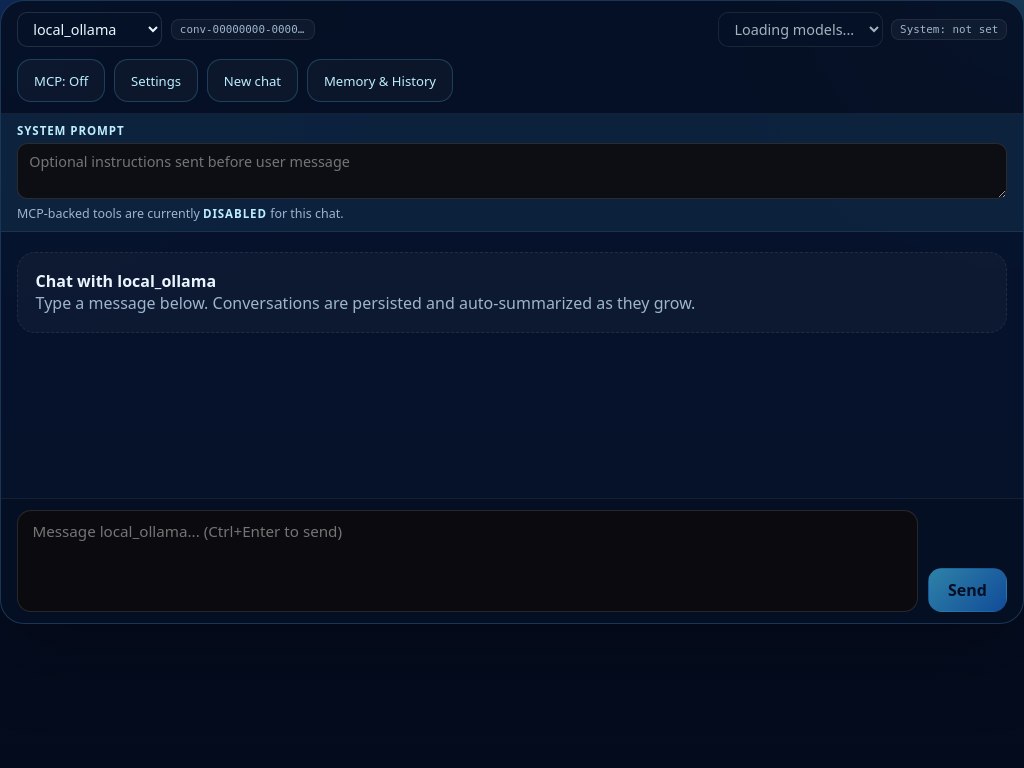
Test: ChatPage › clears the thread when New chat is clicked
Type "Remember this." into the text box labelled "Message" at coordinates (468, 561), box [17,510,918,612]
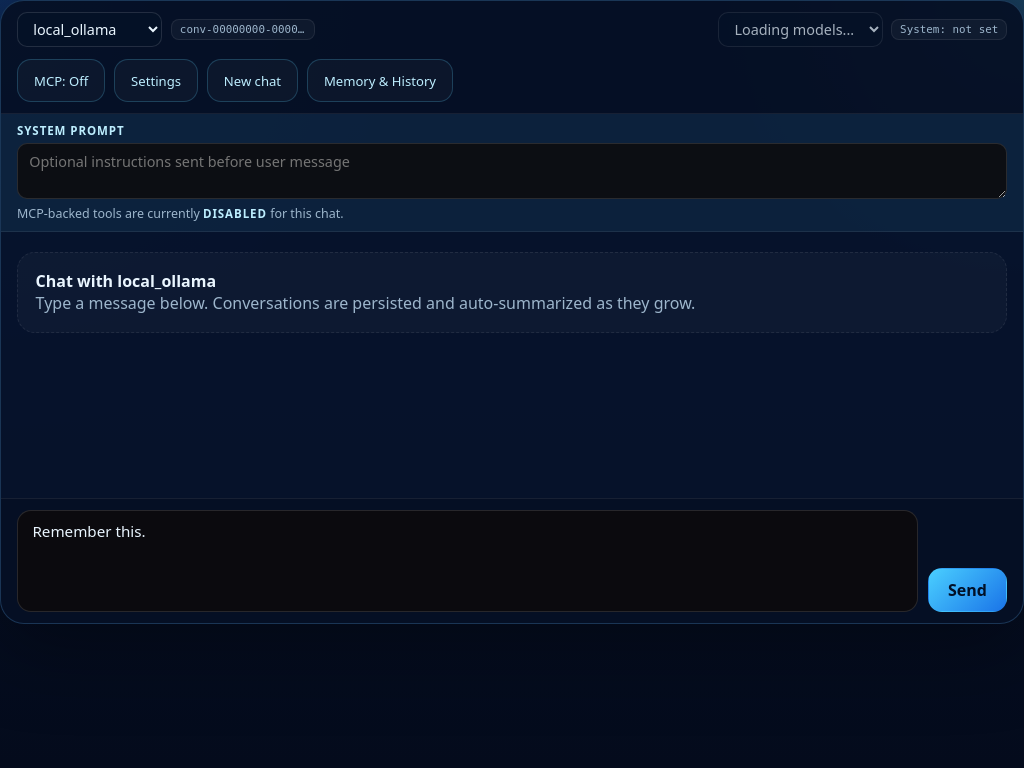
Click the button "Send" at coordinates (967, 590), box [928,568,1007,612]
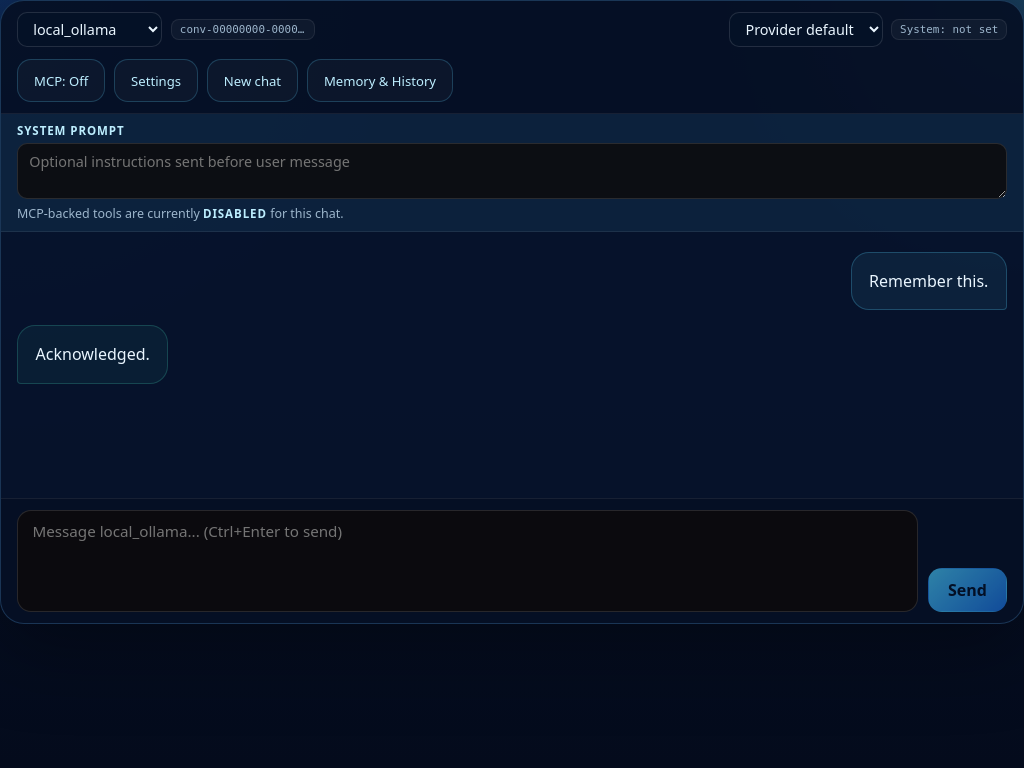
Expected: the text "Acknowledged." is shown, [36,342,150,367]
Click the button "New chat" at coordinates (252, 80), box [207,59,298,102]
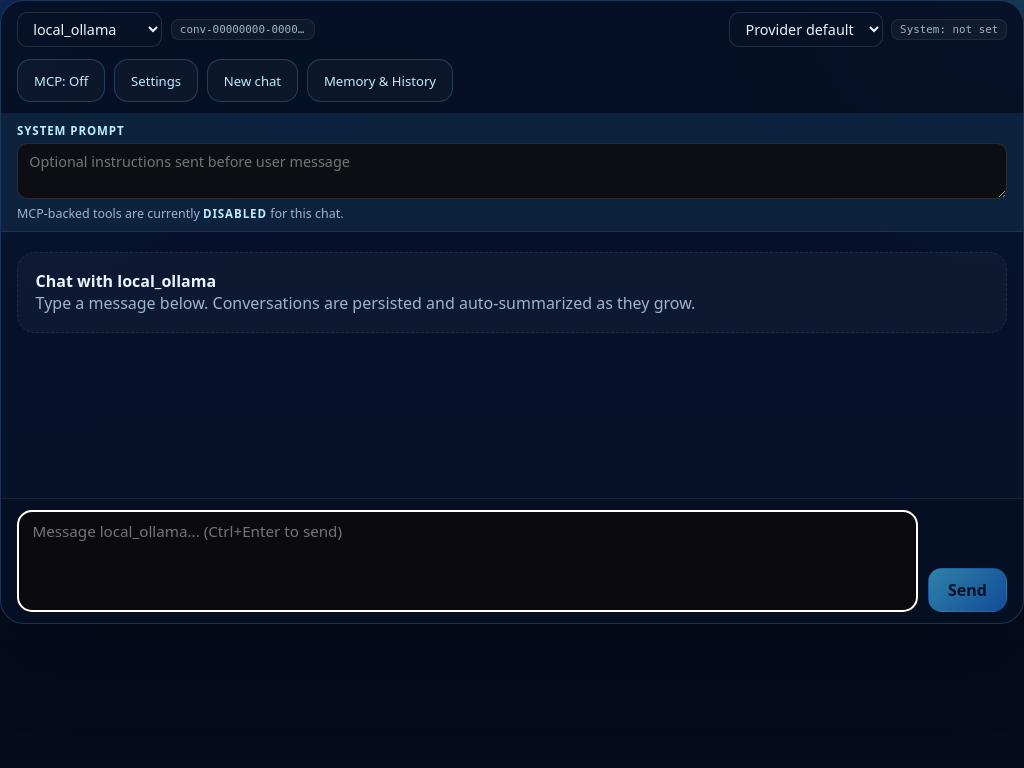
Expected: the text "Remember this." is gone
Expected: the text "Acknowledged." is gone
